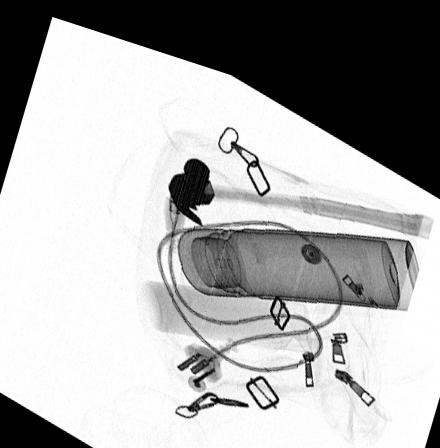Hammer: (166, 144, 404, 215)
